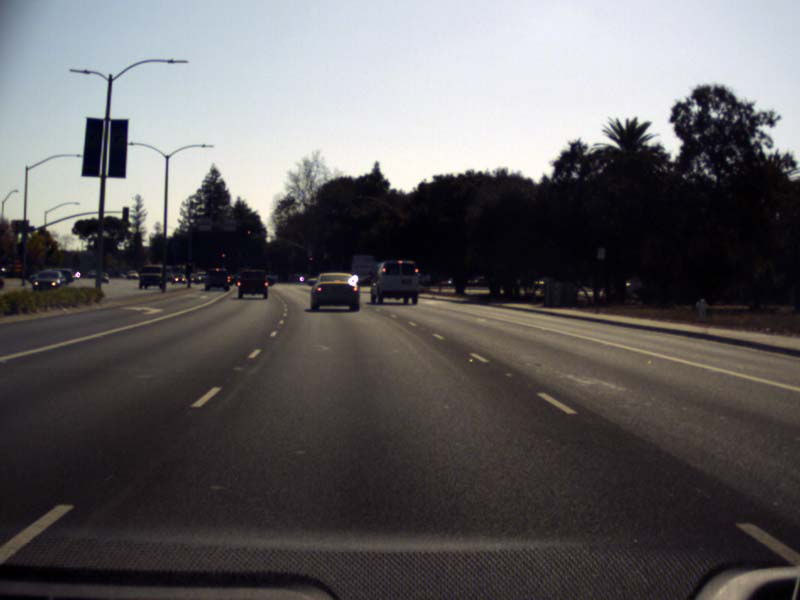Red: (220, 249, 226, 258), (308, 256, 312, 262)
Yellow: (246, 226, 251, 240)
